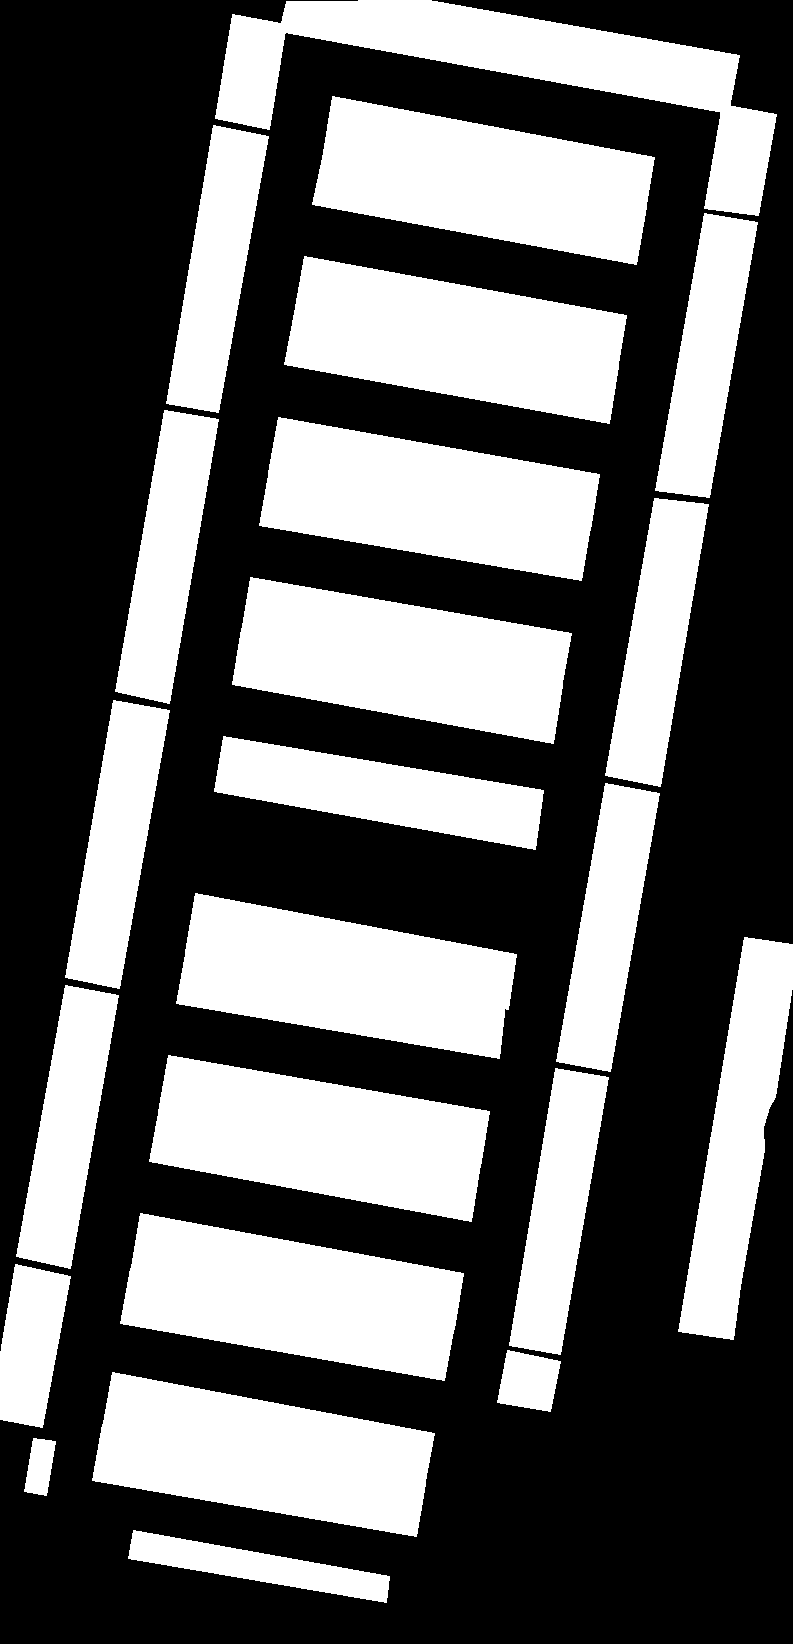parkingspot: (279, 0, 740, 113), (678, 937, 792, 1339), (312, 148, 646, 264), (130, 1213, 463, 1329), (284, 307, 618, 423), (185, 893, 516, 1009), (232, 628, 562, 743), (294, 256, 626, 370), (149, 1107, 480, 1221), (102, 1372, 434, 1486), (120, 1268, 454, 1380), (323, 96, 653, 210), (92, 1424, 425, 1536), (214, 736, 543, 849), (267, 417, 599, 529), (158, 1055, 489, 1167), (259, 469, 590, 580), (241, 577, 571, 688), (176, 948, 505, 1058), (115, 410, 218, 704), (65, 700, 169, 988), (605, 498, 708, 786), (556, 783, 659, 1070), (166, 125, 267, 412), (655, 213, 757, 497), (16, 985, 117, 1268), (509, 1068, 608, 1354), (128, 1530, 389, 1602), (0, 1264, 70, 1427), (215, 14, 286, 129), (704, 104, 776, 215), (497, 1350, 560, 1411), (24, 1438, 55, 1495)
